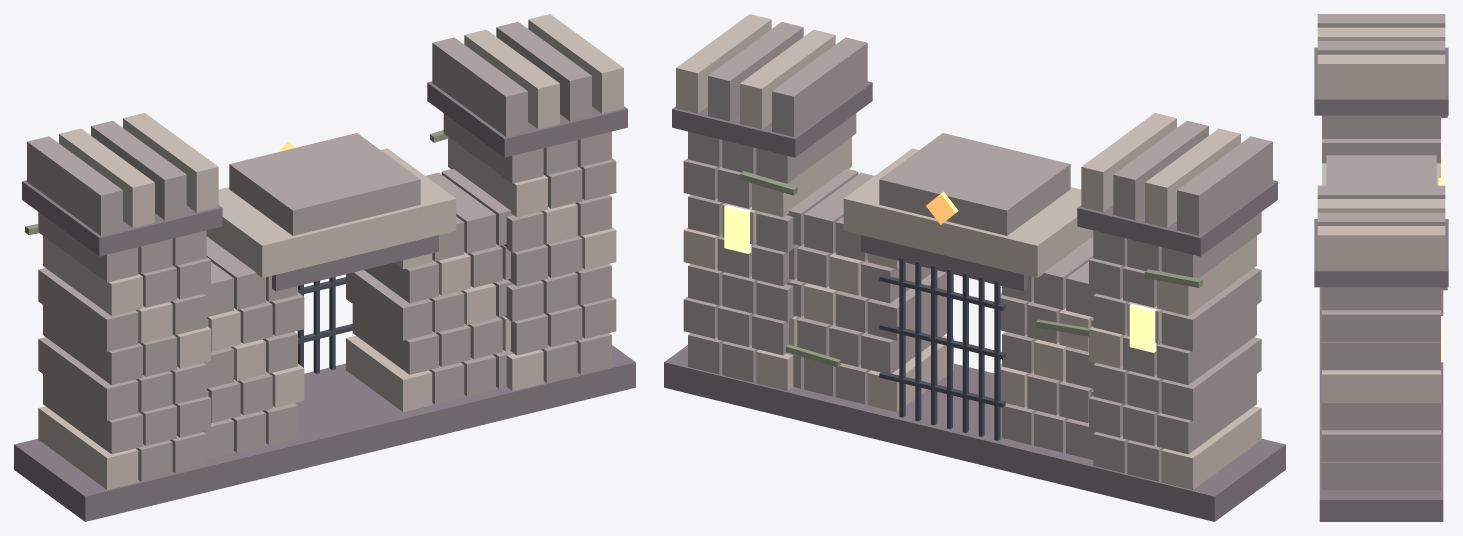
File: menu_castle_gate.glb
The picture shows the model from 3 angles, left to right: view 1: azimuth 30°, elevation 25°; view 2: azimuth 150°, elevation 25°; view 3: azimuth 270°, elevation 25°; orthographic projection. The views are drawn at different scales.
Visible parts, largest first — view 1: Moonpost Warm Castle Gate; view 2: Moonpost Warm Castle Gate; view 3: Moonpost Warm Castle Gate.
Boxes of the visible parts, x1,y1,x2,y2 form: Moonpost Warm Castle Gate: [14, 14, 635, 521]; Moonpost Warm Castle Gate: [664, 14, 1285, 521]; Moonpost Warm Castle Gate: [1314, 14, 1448, 521].
Bounding box in the file's own units: 25 × 14.05 × 6.1.
